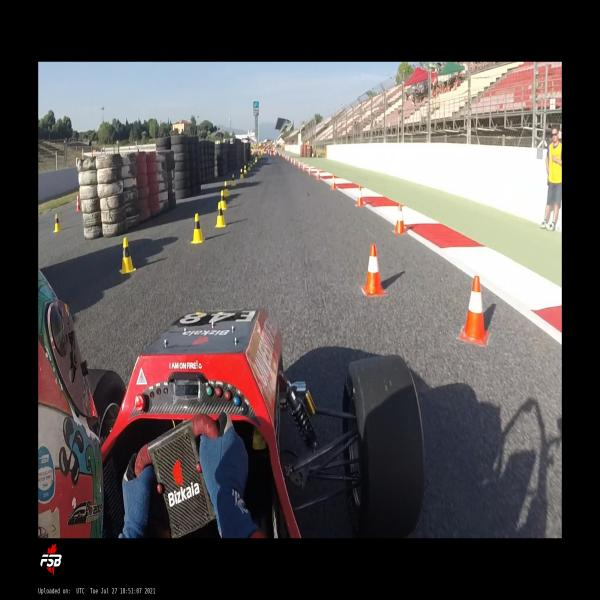orange_cone: (458, 275, 490, 346), (360, 244, 387, 297), (392, 204, 408, 236), (355, 186, 365, 208), (330, 176, 337, 190), (76, 199, 82, 212), (76, 192, 81, 202), (316, 170, 320, 180), (308, 166, 312, 175), (297, 160, 301, 168), (302, 164, 306, 172), (293, 158, 296, 166)
yellow_cone: (118, 238, 137, 274), (190, 213, 205, 244), (215, 202, 226, 228), (219, 190, 228, 210), (53, 213, 62, 233), (223, 181, 230, 197), (231, 174, 236, 186), (239, 169, 244, 179), (248, 163, 251, 171), (244, 165, 247, 173), (249, 162, 252, 169), (253, 158, 255, 164), (255, 156, 257, 162)
